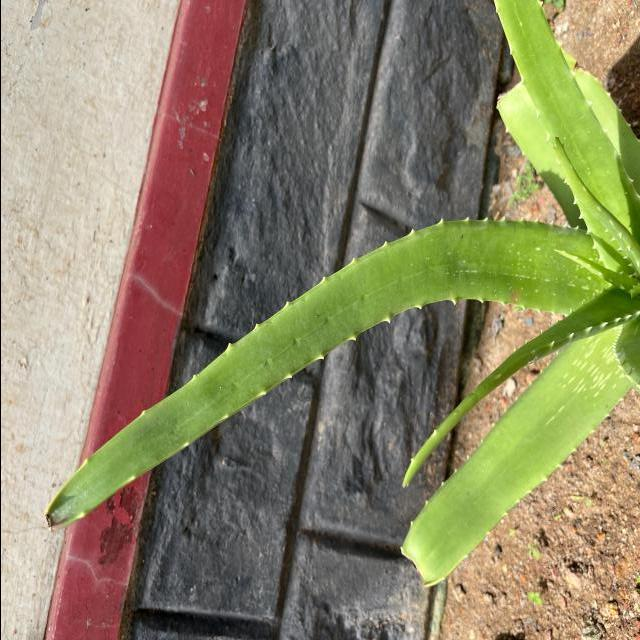Aloe vera: (38, 214, 617, 533)
